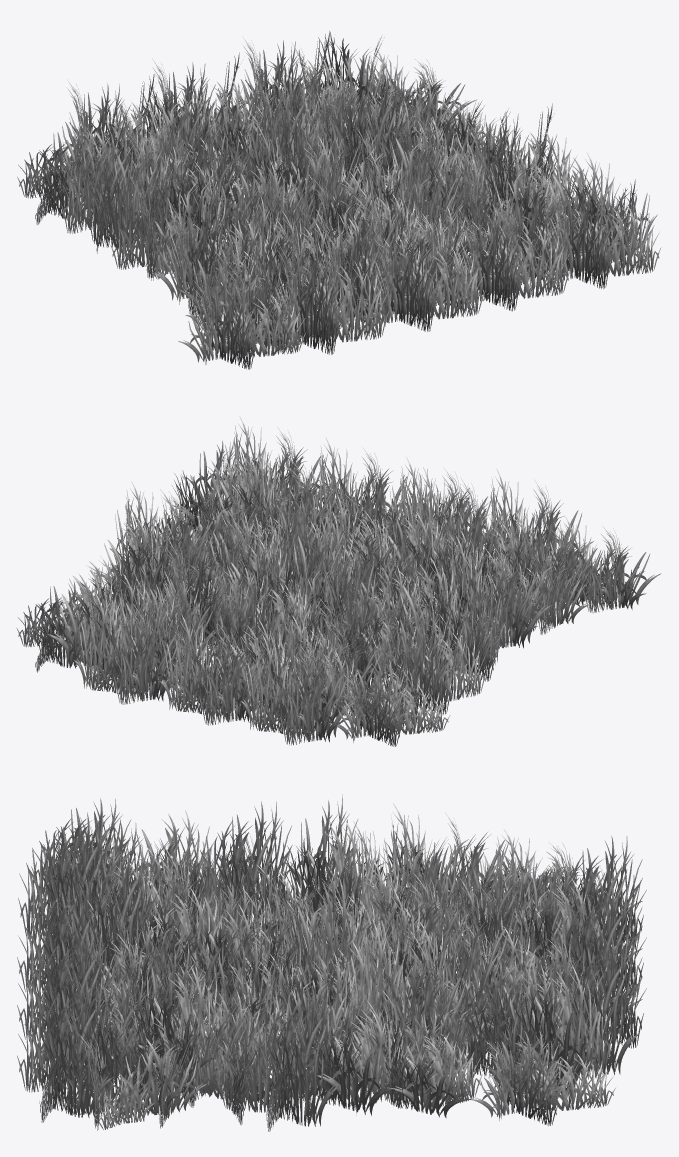
The model's file is p_grass_matrix.fbx.
3 renders of one model, top to bottom at view 1: azimuth 30°, elevation 25°; view 2: azimuth 150°, elevation 25°; view 3: azimuth 270°, elevation 25°, orthographic. The views are drawn at different scales.
Visible parts, largest first — view 1: p_grass1x1, p_grass_1x1sm; view 2: p_grass1x1, p_grass_1x1sm; view 3: p_grass1x1, p_grass_1x1sm.
Part boxes in pixels (x1,y1,x2,y2): p_grass1x1: [17, 31, 661, 369]; p_grass_1x1sm: [50, 69, 588, 345]; p_grass1x1: [16, 416, 661, 746]; p_grass_1x1sm: [60, 484, 576, 732]; p_grass1x1: [17, 794, 646, 1131]; p_grass_1x1sm: [71, 821, 578, 1108].
Bounding box in the file's own units: 116 × 26.04 × 116.
